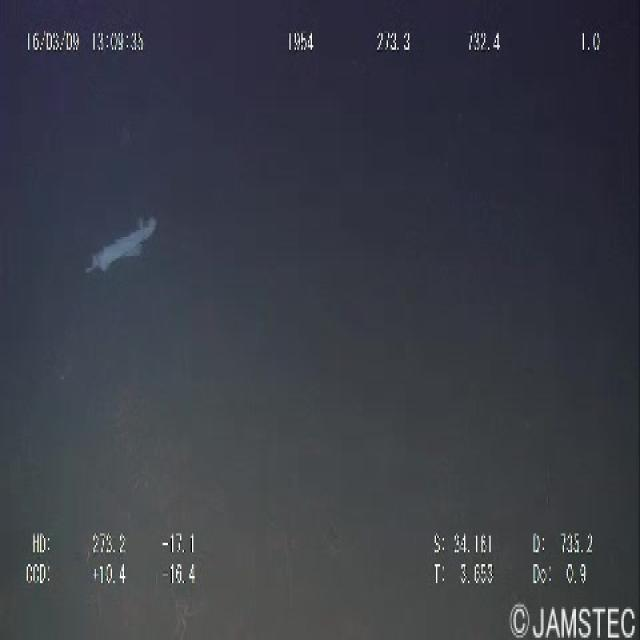plastic: (77, 199, 163, 292)
